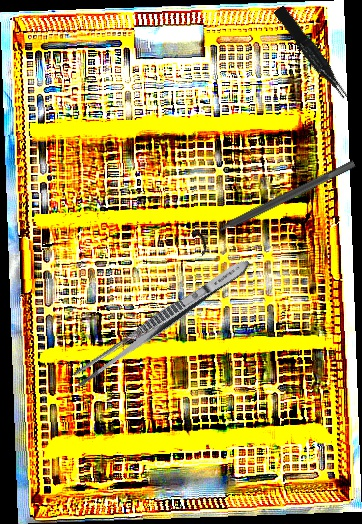Dressing Forceps: (70, 253, 254, 391)
Fixation Ring: (190, 151, 361, 257)
Tissue Forceps: (273, 2, 350, 105)
